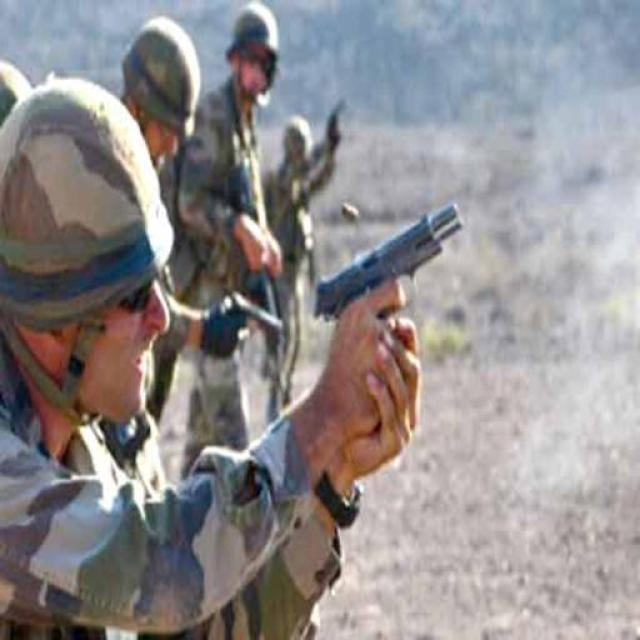pistol: (311, 200, 466, 345)
